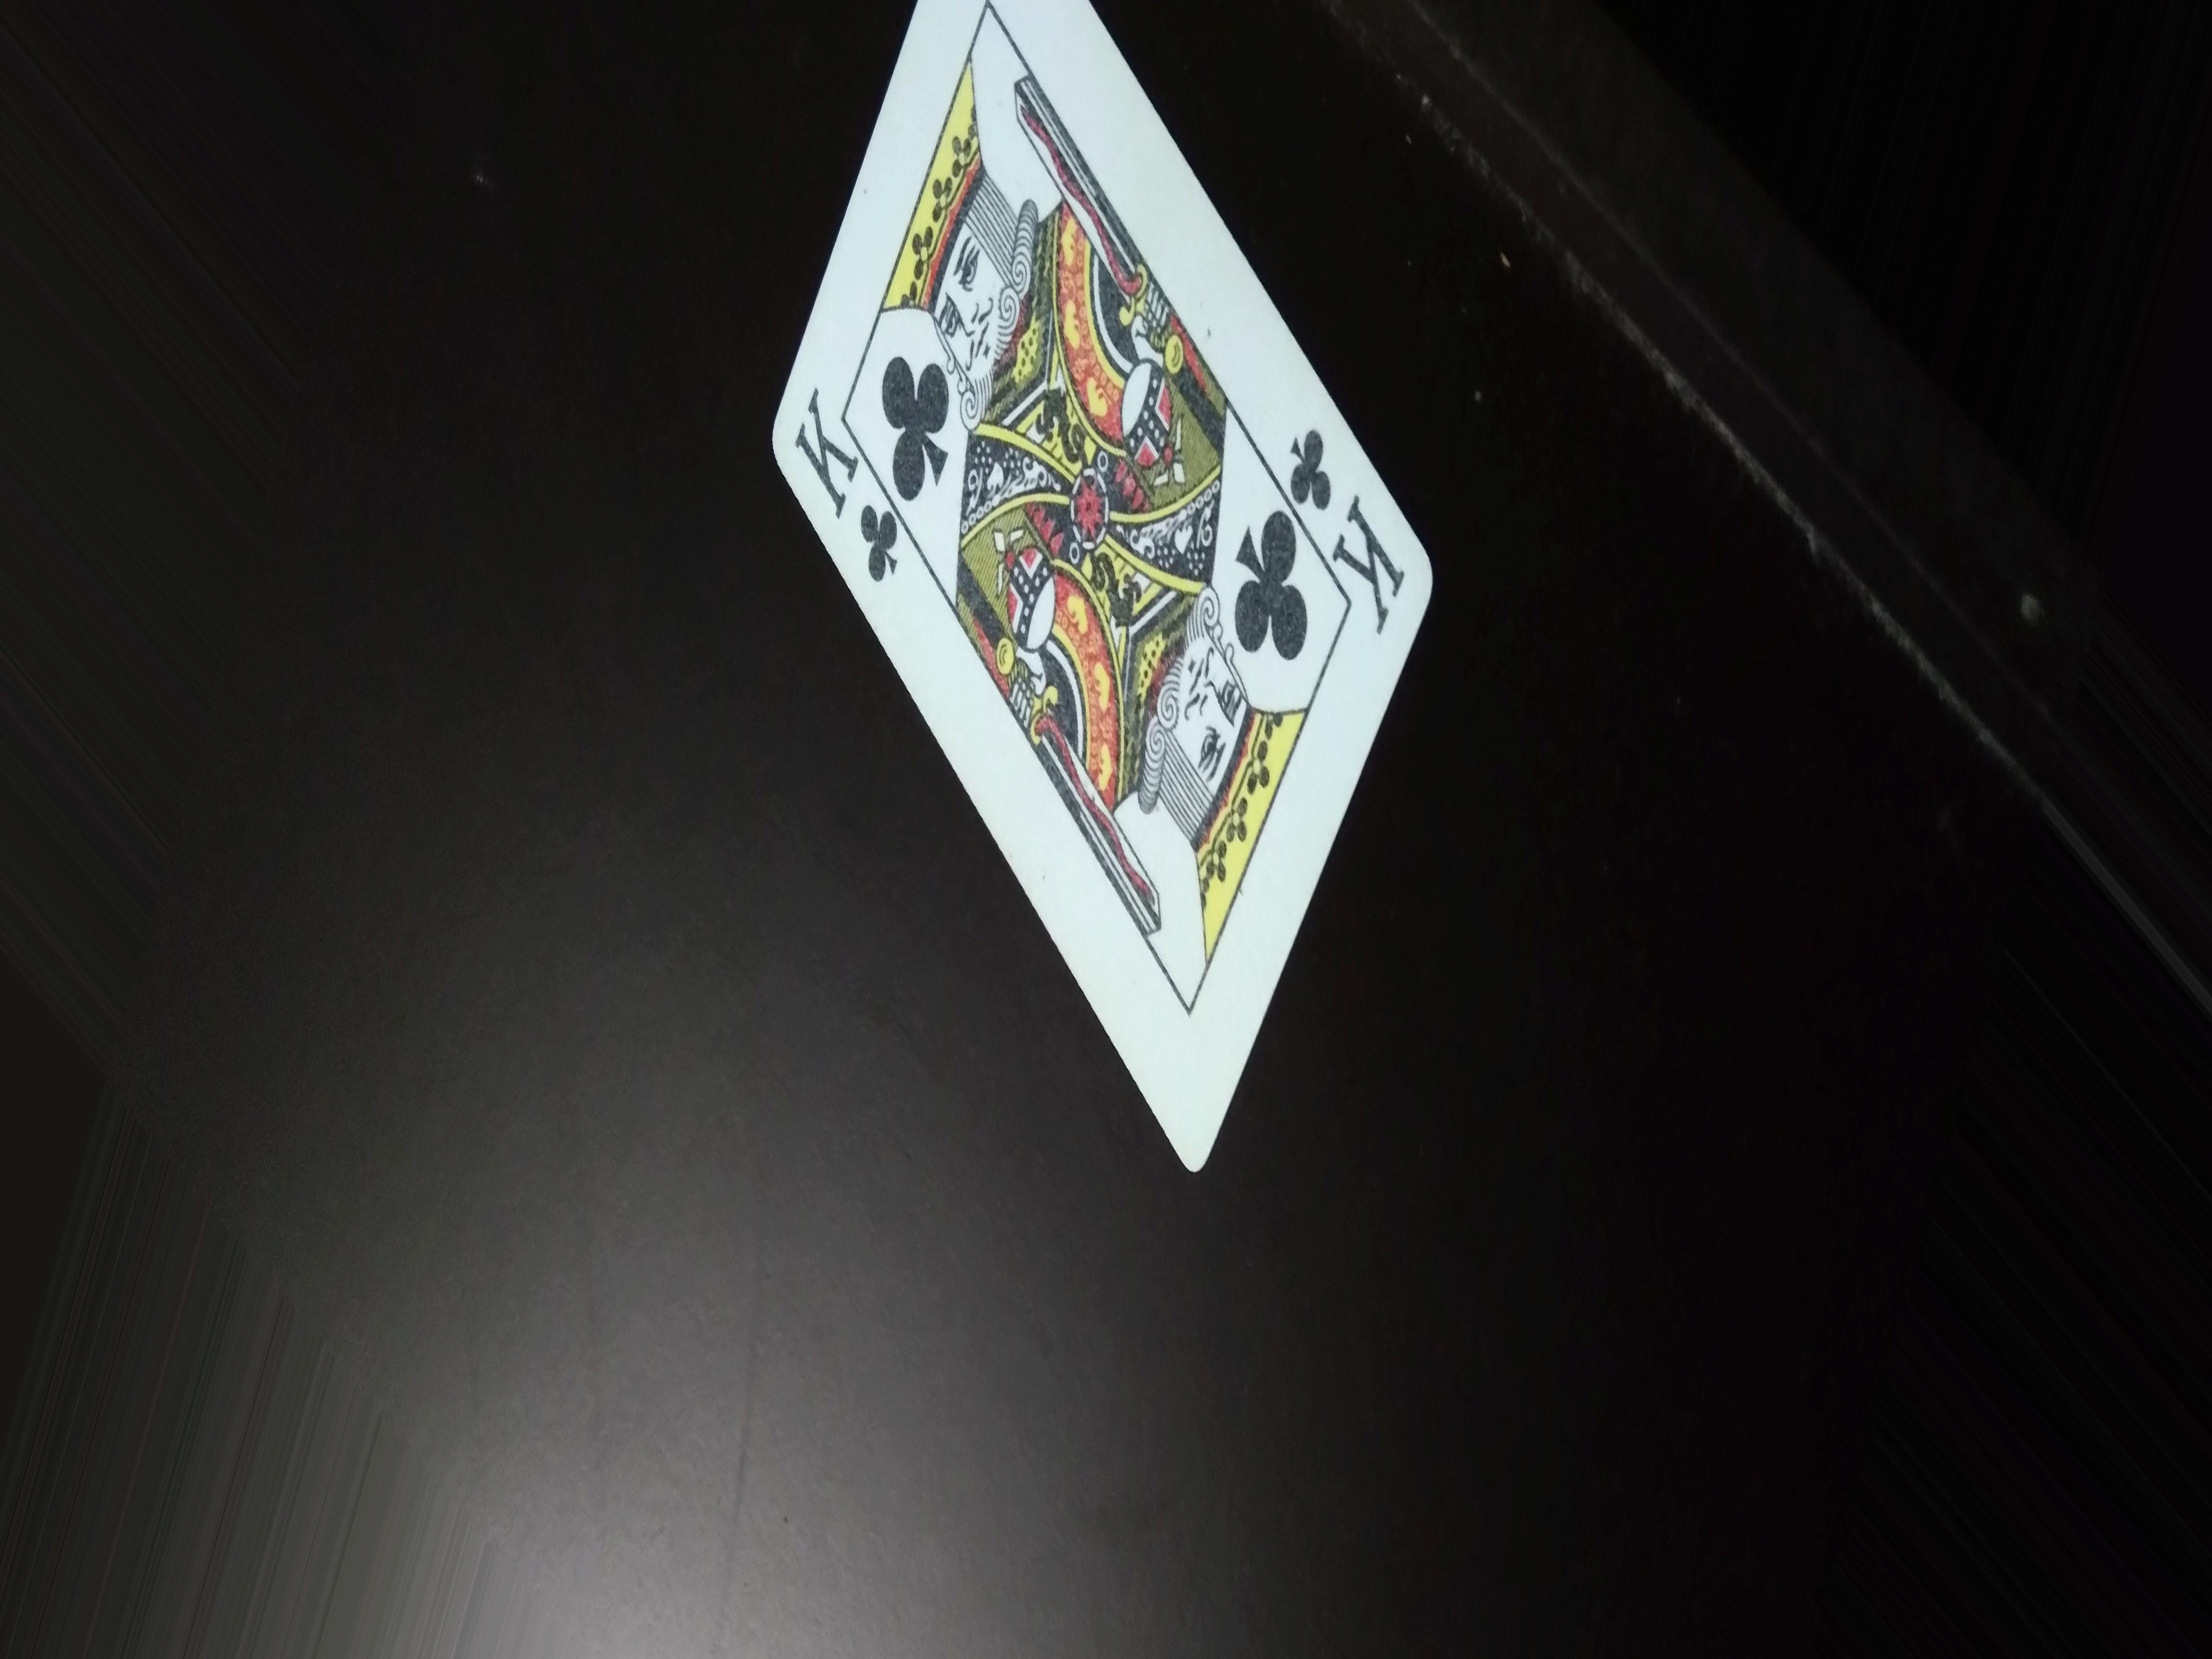KC: (796, 385, 906, 605)
